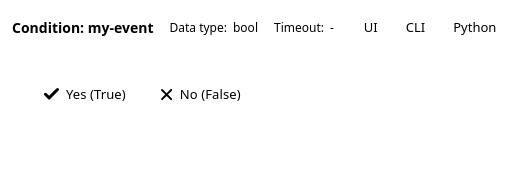
it: ConditionSignal › submission states › surfaces an error when the request fails
This screenshot has width=513, height=172.
Click the button "Yes (True)": [85, 94] box [32,80,138,108]
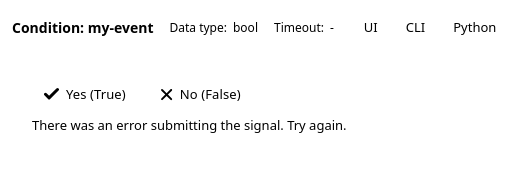
Expected: the text "There was an error submitting the signal. Try again." is shown, [32,116,347,134]
